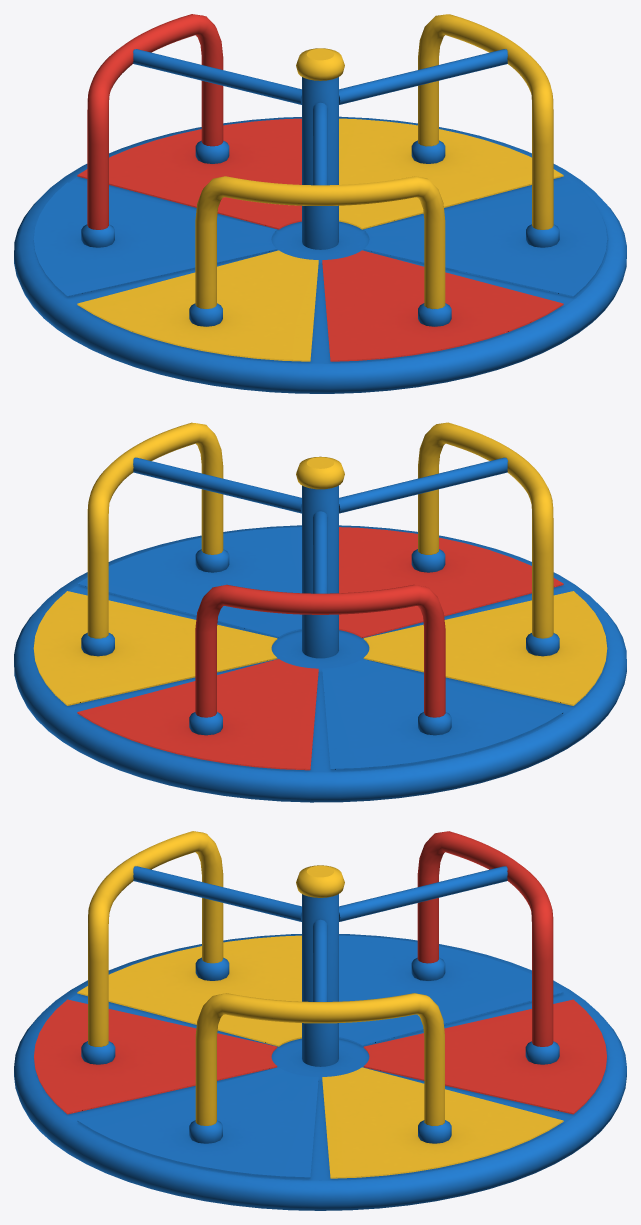
File: merry-go-round.fbx
3 renders of one model, top to bottom at view 1: azimuth 30°, elevation 25°; view 2: azimuth 150°, elevation 25°; view 3: azimuth 270°, elevation 25°, orthographic.
Parts seen in each view (by area): view 1: merry-go-round; view 2: merry-go-round; view 3: merry-go-round.
Boxes of the visible parts, left/top/right/bottom form: merry-go-round: left=14, top=14, right=626, bottom=393; merry-go-round: left=14, top=422, right=626, bottom=802; merry-go-round: left=14, top=831, right=626, bottom=1210.
Size of the model in its own units: 40000 by 18000 by 40000.
1 material, 1 textured.
